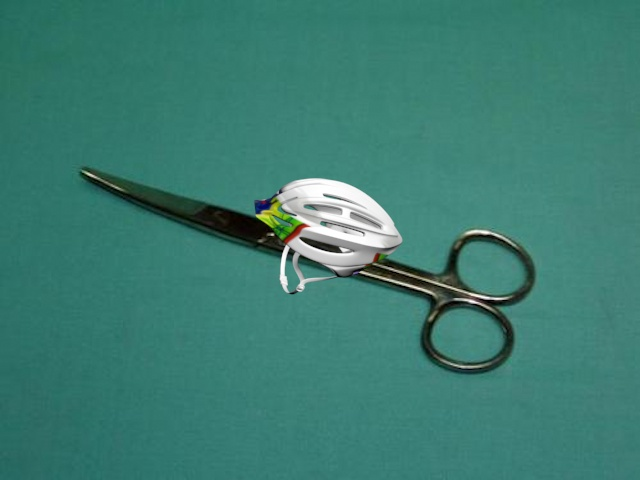bike_helmet: (241, 177, 408, 296)
